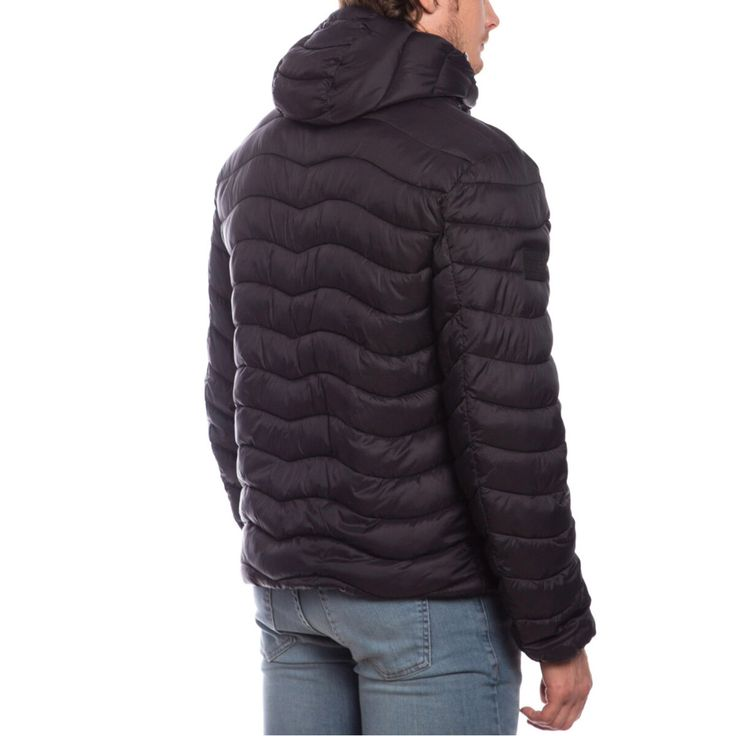nylon: (203, 12, 597, 662)
